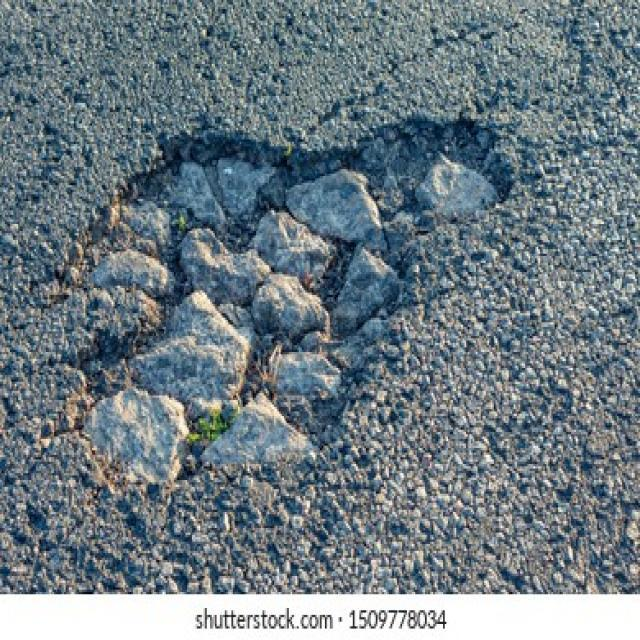Pothole: (33, 105, 512, 485)
